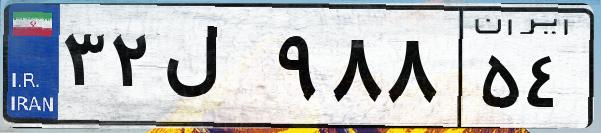2: (110, 28, 158, 98)
3: (57, 26, 110, 100)
4: (525, 38, 570, 115)
5: (475, 38, 525, 113)
8: (385, 28, 445, 110), (330, 28, 385, 110)
9: (270, 28, 330, 110)
ل: (158, 20, 270, 120)
